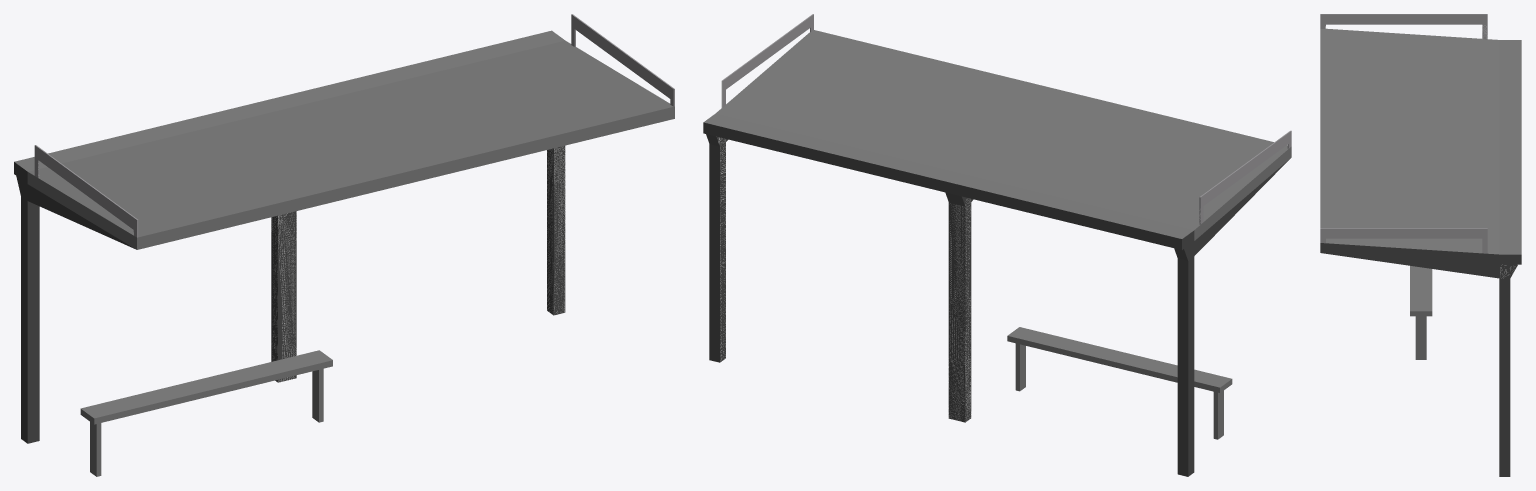
File: lta.dae
The picture shows the model from 3 angles, left to right: view 1: azimuth 30°, elevation 25°; view 2: azimuth 150°, elevation 25°; view 3: azimuth 270°, elevation 25°; orthographic projection. The views are drawn at different scales.
Visible parts, largest first — view 1: SketchUp (×5); view 2: SketchUp (×5); view 3: SketchUp (×6).
Boxes of the visible parts, left/top/right/bottom form: SketchUp (×5): left=14, top=14, right=674, bottom=443; SketchUp (×5): left=703, top=14, right=1291, bottom=476; SketchUp (×6): left=1320, top=14, right=1521, bottom=476.
Bounding box in the file's own units: 179 × 70.99 × 96.71.
Materials: 4 (3 with a texture image).
